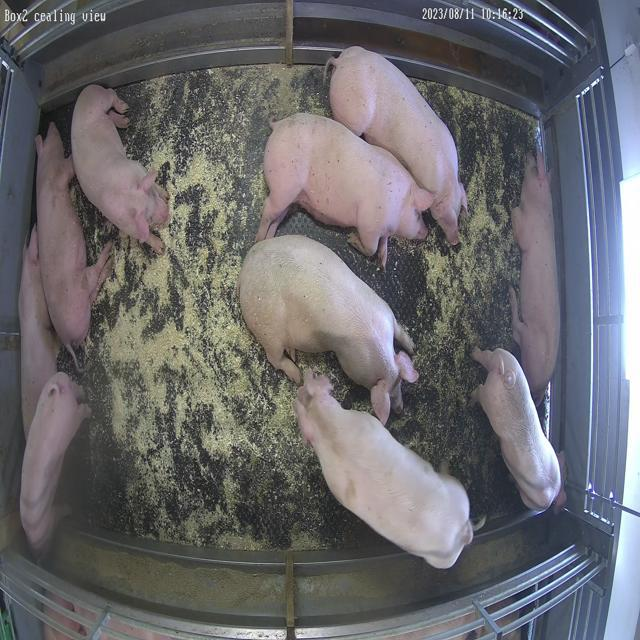Dirt: (402, 277, 525, 521), (181, 66, 330, 154)
Pig: (295, 373, 474, 570), (238, 235, 418, 424), (327, 46, 468, 244), (256, 113, 433, 268), (35, 123, 111, 346), (71, 85, 169, 252), (473, 349, 563, 512), (511, 153, 562, 404), (20, 373, 90, 554), (18, 227, 58, 436)
